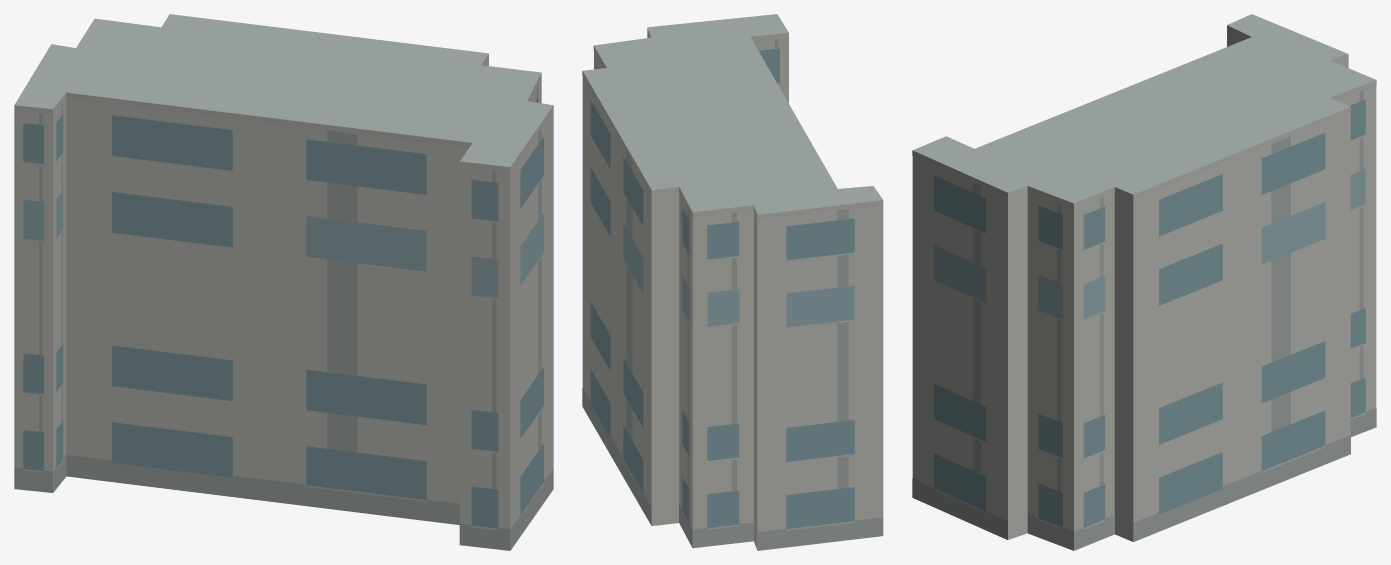
File: survey-upis-32563388.glb
3 views of the same model, side by side, from view 1: azimuth 30°, elevation 25°; view 2: azimuth 150°, elevation 25°; view 3: azimuth 270°, elevation 25° (orthographic). The views are drawn at different scales.
Visible parts, largest first — view 1: survey-upis-32563388.tmp; view 2: survey-upis-32563388.tmp; view 3: survey-upis-32563388.tmp.
Part boxes in pixels (left/top/right/bottom): survey-upis-32563388.tmp: left=14, top=14, right=553, bottom=550; survey-upis-32563388.tmp: left=582, top=14, right=883, bottom=550; survey-upis-32563388.tmp: left=912, top=14, right=1376, bottom=550.
Bounding box in the file's own units: 18.78 × 16.05 × 19.43.
